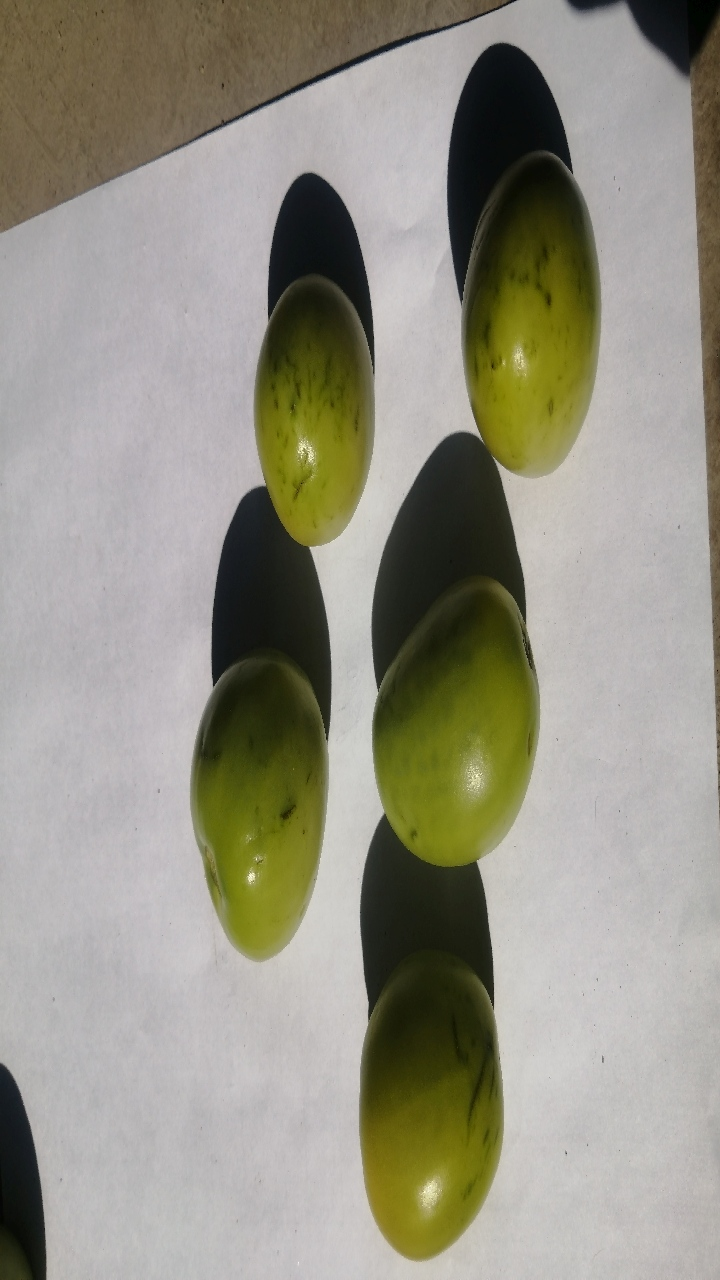tomateVerde: (355, 554, 574, 880), (441, 131, 635, 499), (331, 943, 541, 1274), (164, 634, 346, 969), (226, 260, 394, 548)
